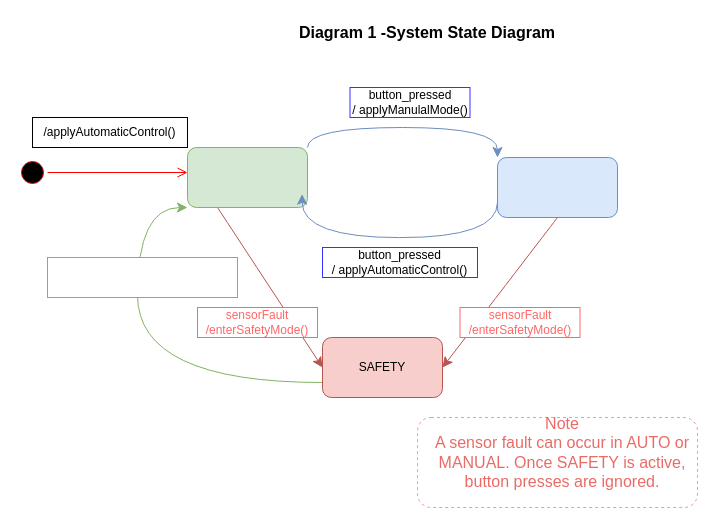
This 715x525 diagram has some shape labels left out. The shapes that lost their labels are listed below. From the top down, each one's centre as x and y in pixels, then its label:
pixel 247 177: AUTO
pixel 557 187: MANUAL
pixel 142 277: valid_readings [>= 3 consecutive] / processSafetyRecovery()
